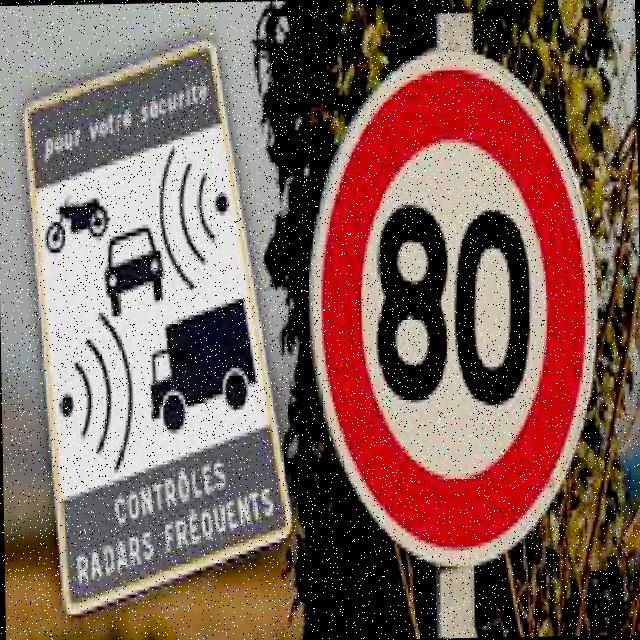Ograniczenie predkosci do 80: (349, 132, 560, 502)
